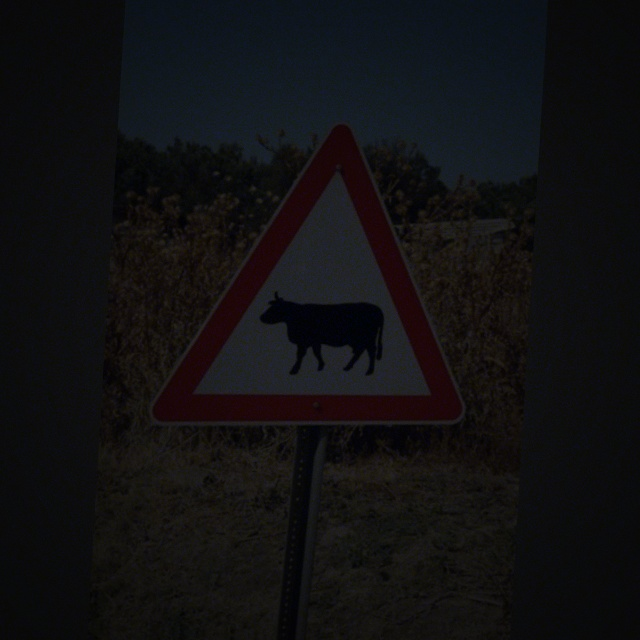Cattle: (165, 118, 484, 442)
